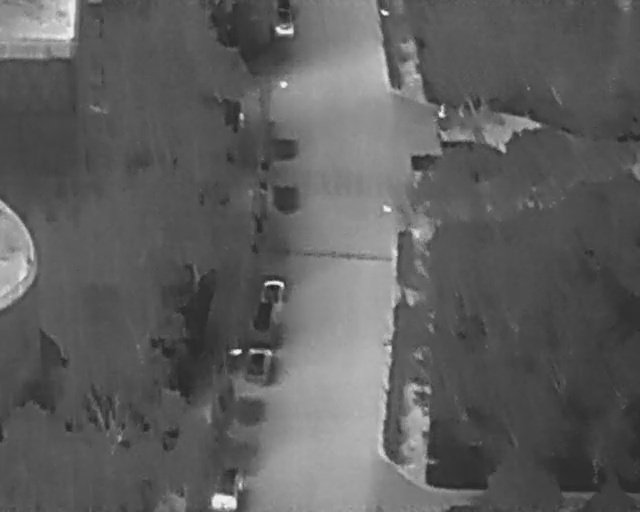Car: (249, 271, 291, 338), (241, 331, 276, 388), (209, 463, 242, 510), (270, 0, 298, 38)
Person: (436, 102, 448, 121), (456, 101, 464, 118)
